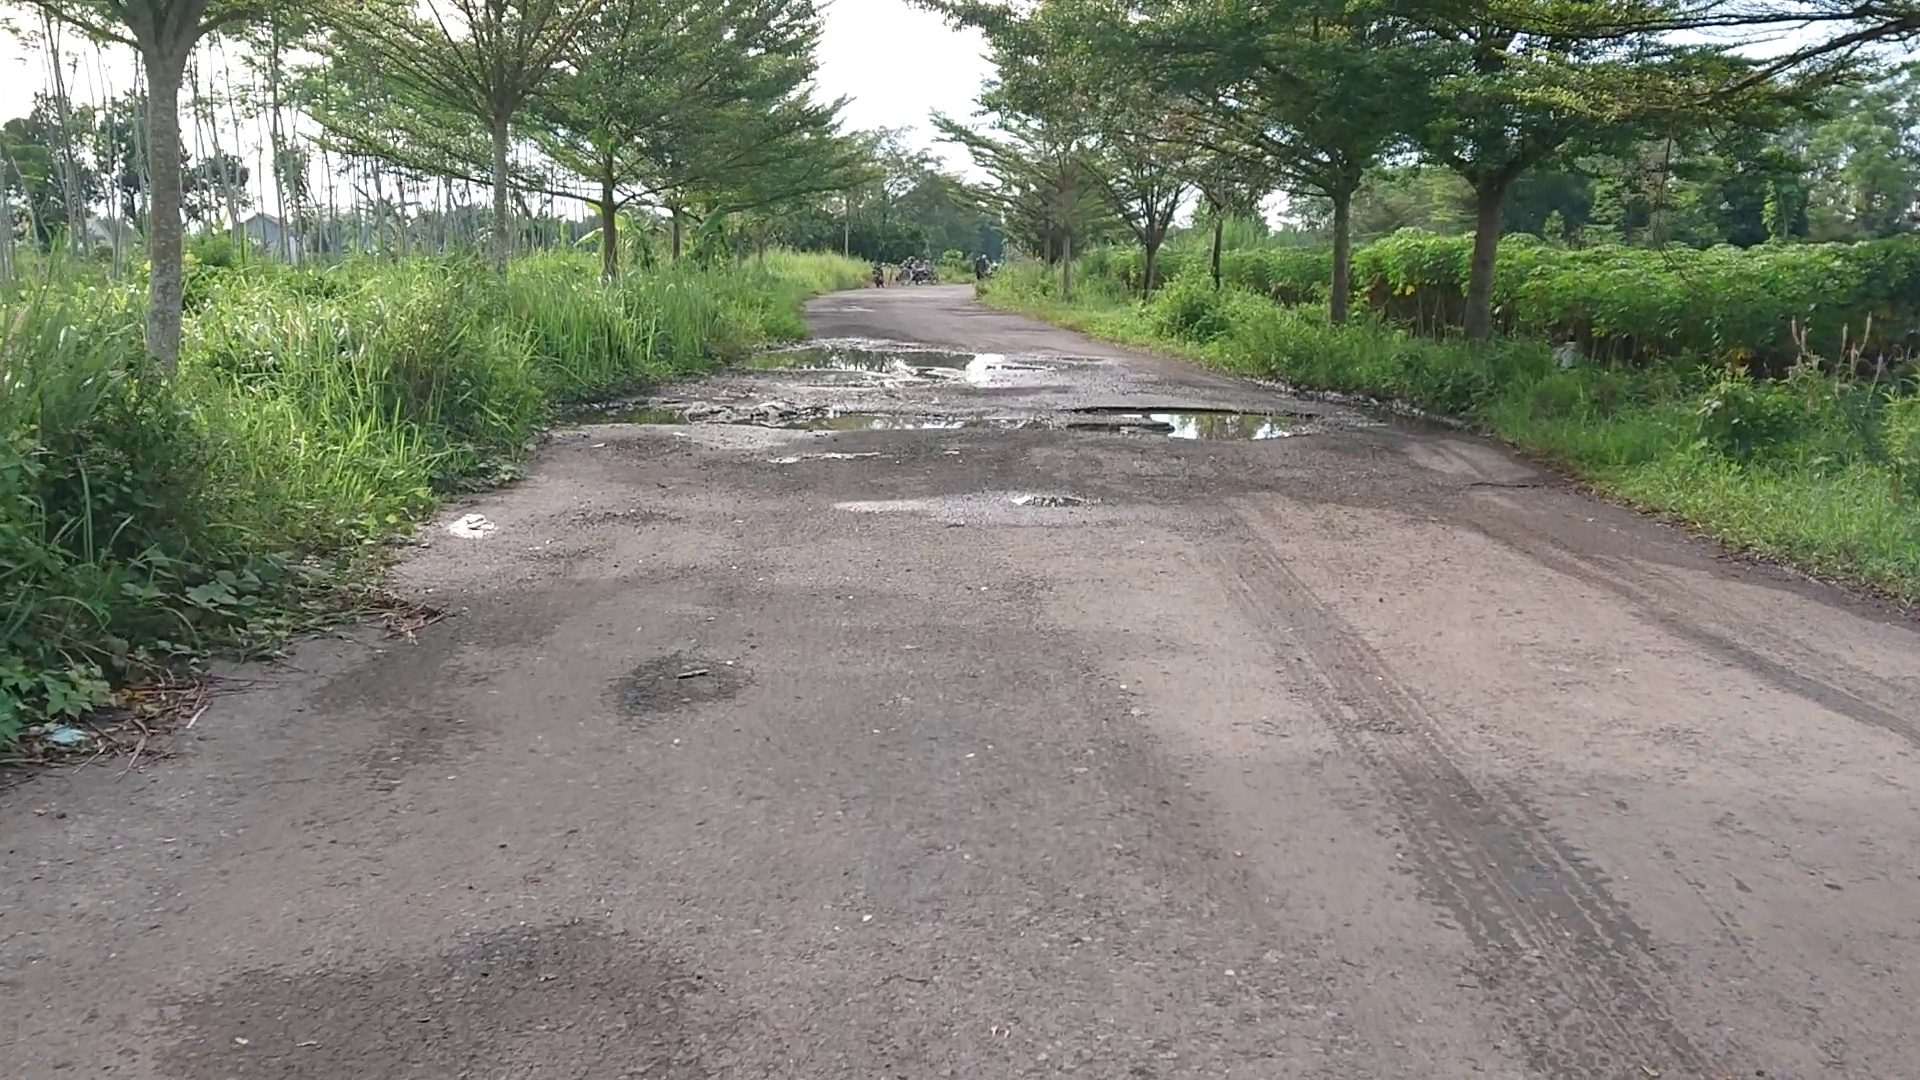Berlubang: (584, 394, 1320, 450), (760, 348, 1055, 397)
